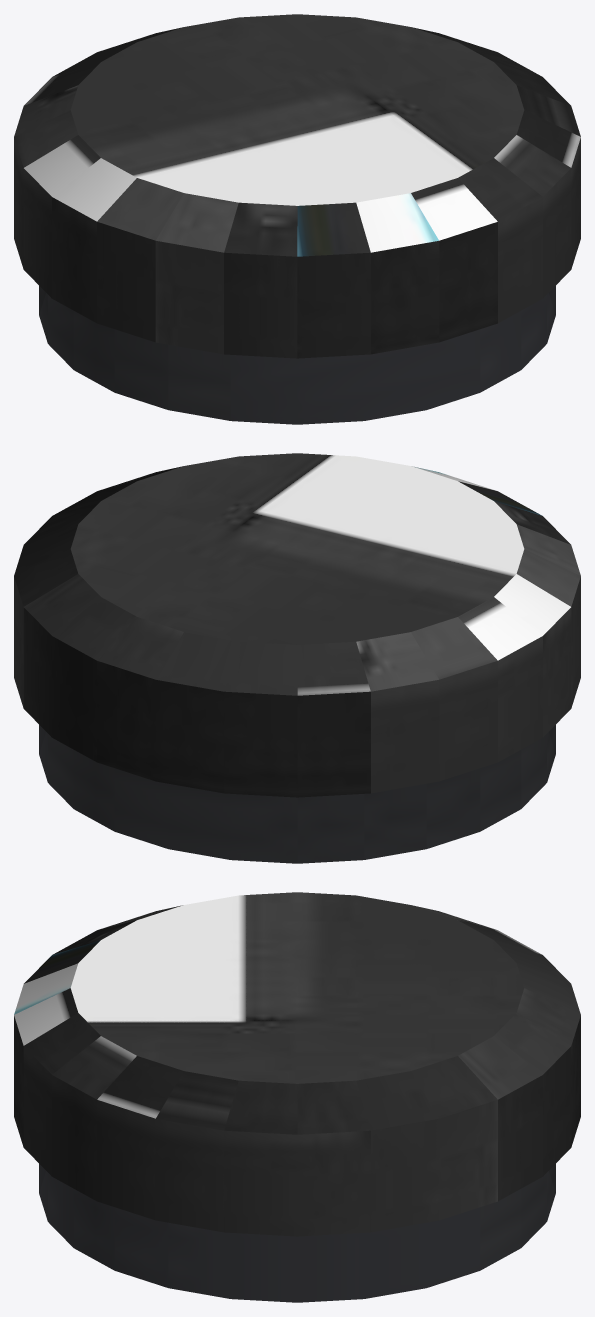
File: original-2.obj
3 renders of one model, top to bottom at view 1: azimuth 30°, elevation 25°; view 2: azimuth 150°, elevation 25°; view 3: azimuth 270°, elevation 25°, orthographic.
Visible parts, largest first — view 1: Group2/mesh2/mesh2-geometry#mesh2-geometry; view 2: Group2/mesh2/mesh2-geometry#mesh2-geometry; view 3: Group2/mesh2/mesh2-geometry#mesh2-geometry.
Boxes of the visible parts, x1,y1,x2,y2 form: Group2/mesh2/mesh2-geometry#mesh2-geometry: [14, 14, 580, 424]; Group2/mesh2/mesh2-geometry#mesh2-geometry: [14, 453, 580, 863]; Group2/mesh2/mesh2-geometry#mesh2-geometry: [14, 892, 580, 1302].
Bounding box in the file's own units: 1.16 × 0.4646 × 1.16.
